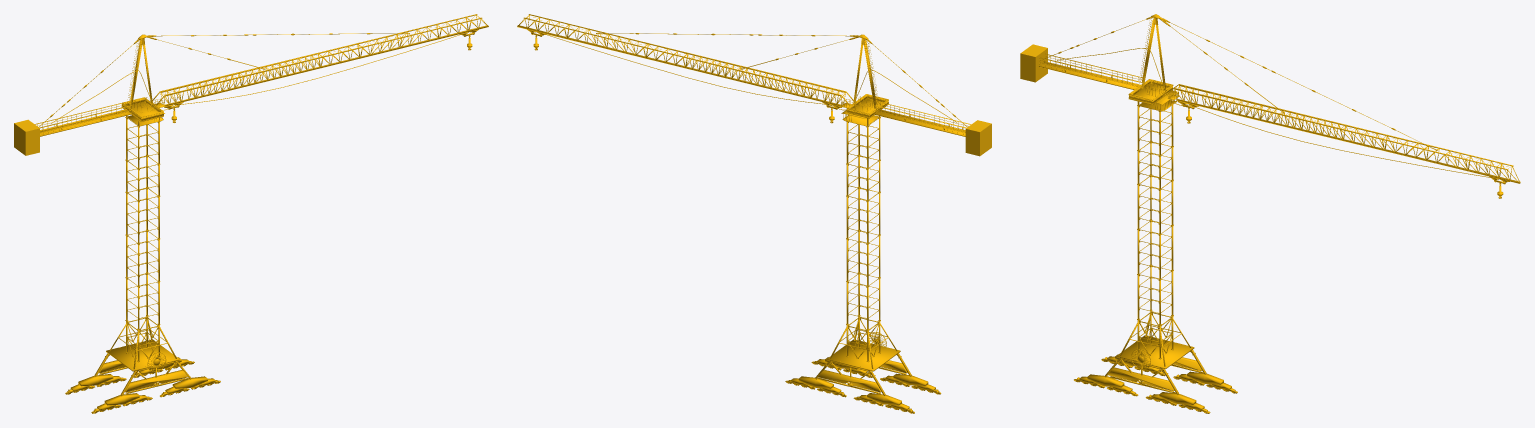
File: TTC-K5000.glb
The picture shows the model from 3 angles, left to right: view 1: azimuth 30°, elevation 25°; view 2: azimuth 150°, elevation 25°; view 3: azimuth 330°, elevation 25°; orthographic projection. The views are drawn at different scales.
Parts seen in each view (by area): view 1: Plane.024, Plane.031; view 2: Plane.031, Plane.024; view 3: Plane.031, Plane.024.
Boxes of the visible parts, box(x1,y1,x2,y2) form: Plane.024: box(14, 14, 488, 155); Plane.031: box(65, 113, 220, 413); Plane.031: box(785, 109, 941, 413); Plane.024: box(517, 14, 991, 156); Plane.031: box(1074, 90, 1237, 413); Plane.024: box(1020, 14, 1520, 198).
Bounding box in the file's own units: 138 × 99.38 × 14.88.
